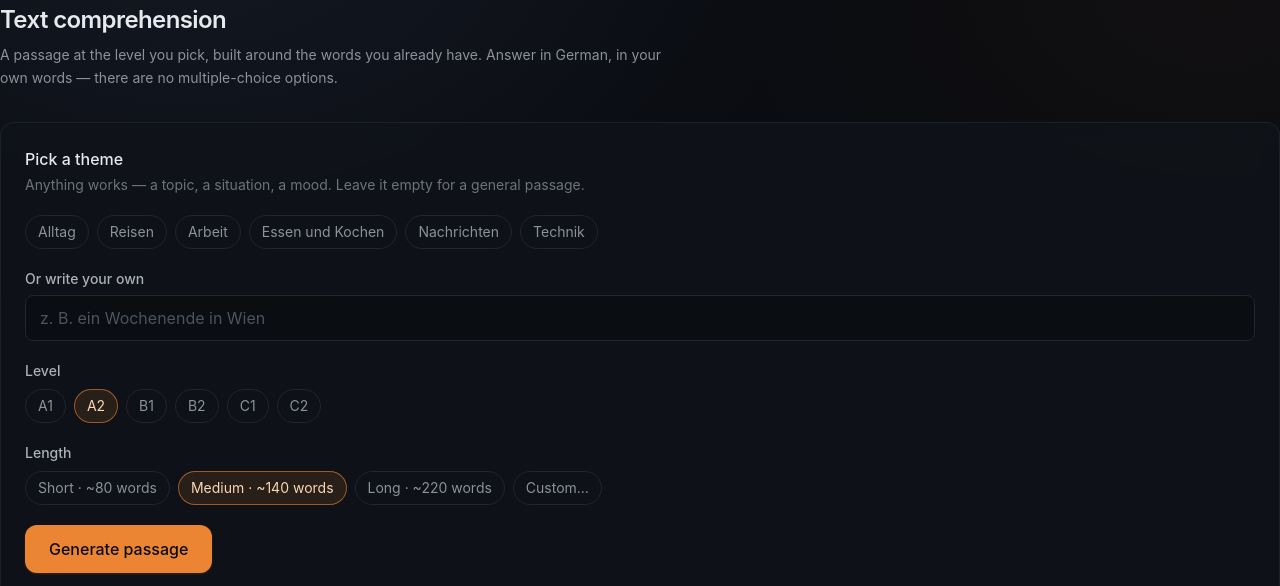
Scenario: ComprehensionMode › offers a flagged word rather than saving it, and only saves on Add
Click the button "Reisen": click(132, 232) [97,214,167,248]
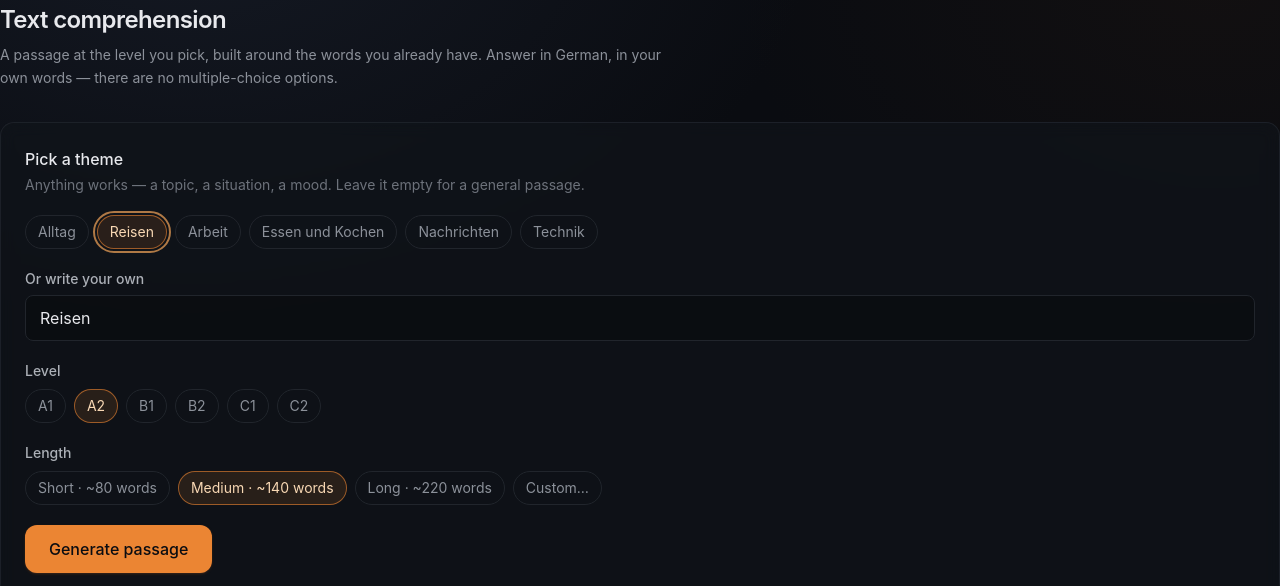
Click the button "Generate passage": click(119, 548) [25,524,212,572]
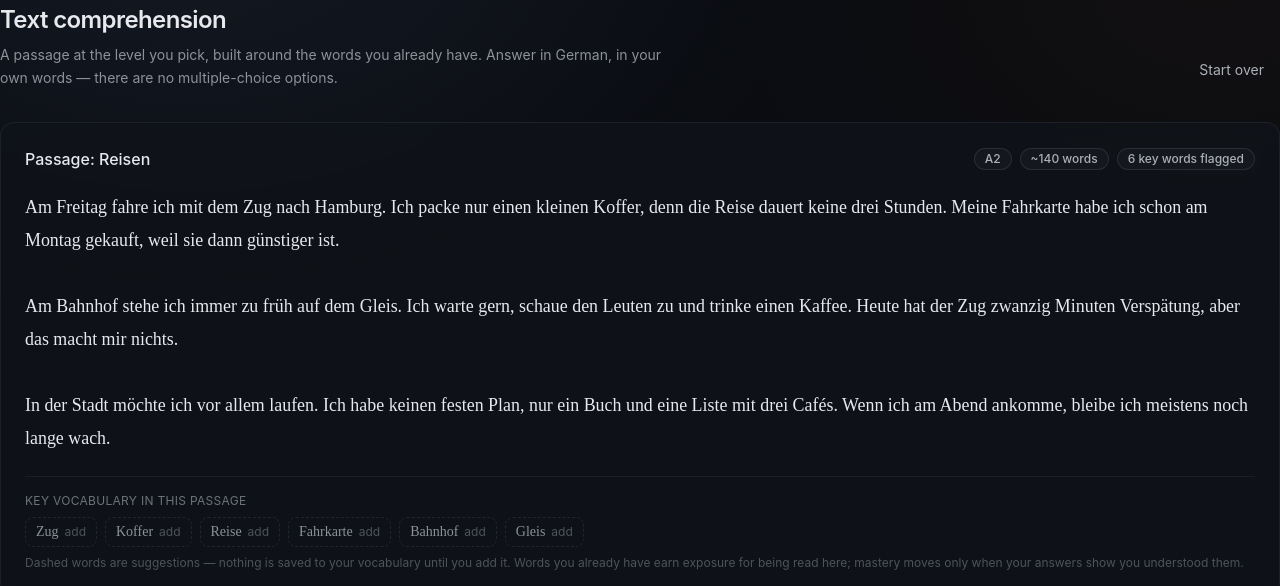
Click the 1st text "Zug": click(257, 206) [243,196,272,216]
(page scrolled)
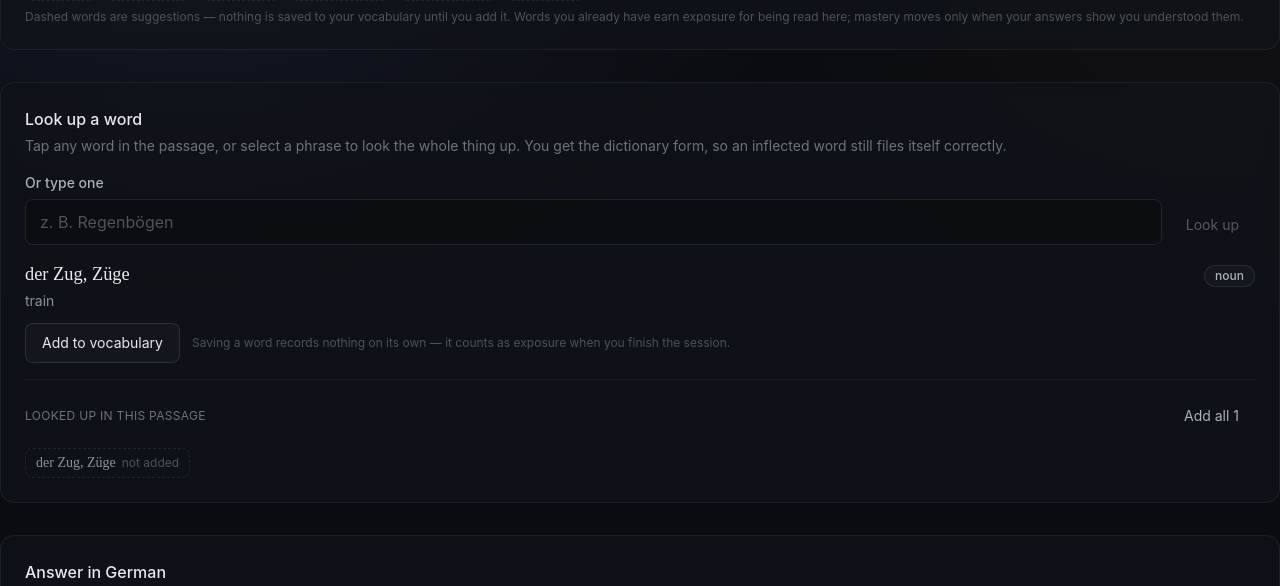
Click the button "Add to vocabulary": click(102, 343) [25,323,180,363]
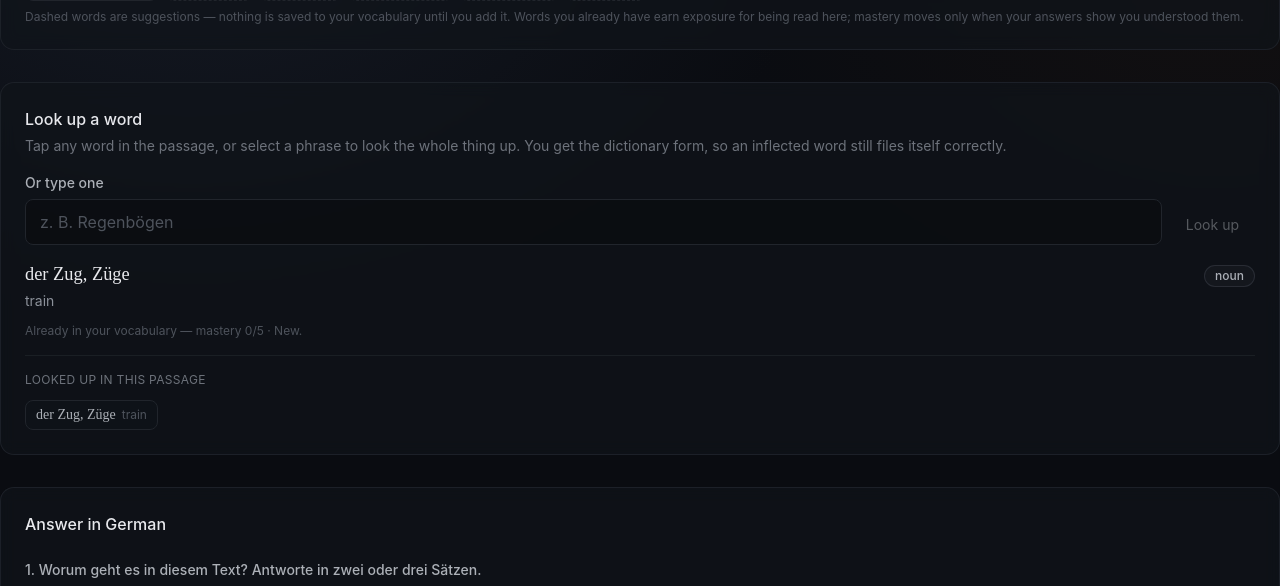
Expected: the text "Already in your vocabulary — mastery 0/5 · New." is shown, [25,323,302,338]
